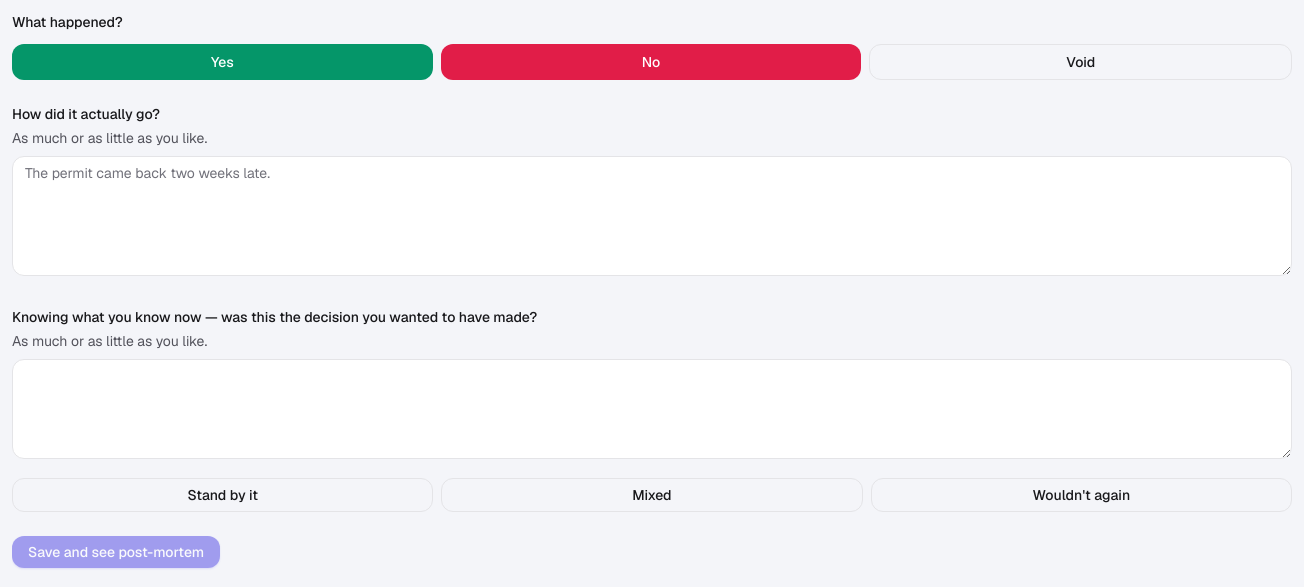
ResolveClient — subjective layer is decision-gated (docs/06-decision-layer.md §2.2) › neither field gates the Save button — it's enabled once a verdict is picked, with no reflection or stance
Expected: the button "Save and see post-mortem" is disabled, [12, 536, 220, 568]
What coordinates should you click on to do the following:
click the button "Yes"
I would click on:
 (222, 62)
Its box is [12, 44, 433, 80].
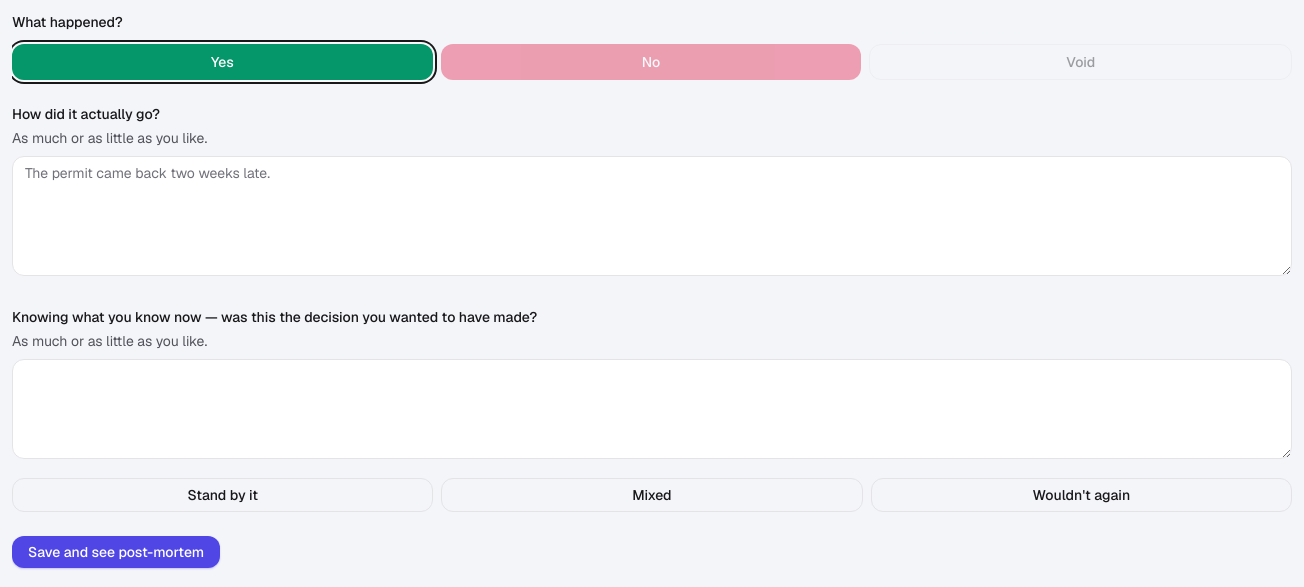
Now the button "Save and see post-mortem" is enabled, box [12, 536, 220, 568]
